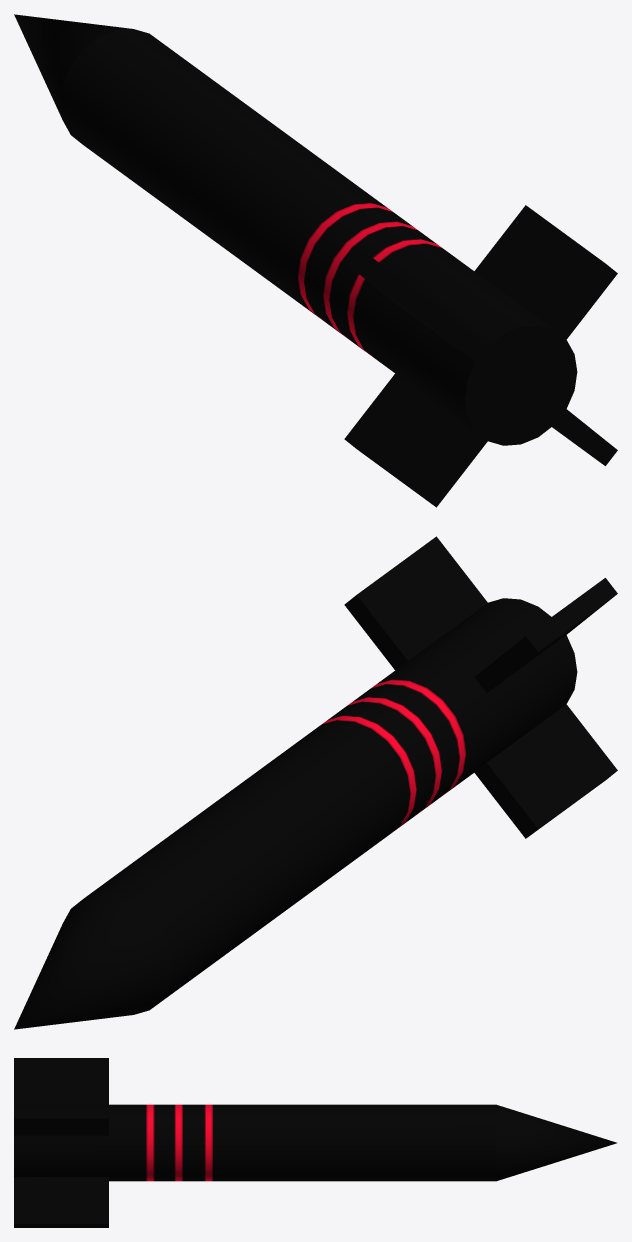
The model's file is Dart.obj.
The picture shows the model from 3 angles, top to bottom: view 1: azimuth 30°, elevation 25°; view 2: azimuth 150°, elevation 25°; view 3: azimuth 270°, elevation 25°; orthographic projection. The views are drawn at different scales.
Parts seen in each view (by area): view 1: pCylinder1; view 2: pCylinder1; view 3: pCylinder1.
Part boxes in pixels (bbox=[...]): pCylinder1: bbox=[14, 14, 617, 507]; pCylinder1: bbox=[14, 536, 617, 1029]; pCylinder1: bbox=[14, 1058, 616, 1227].
Size of the model in its own units: 0.1355 by 0.1355 by 0.6139.
1 material, 1 textured.
